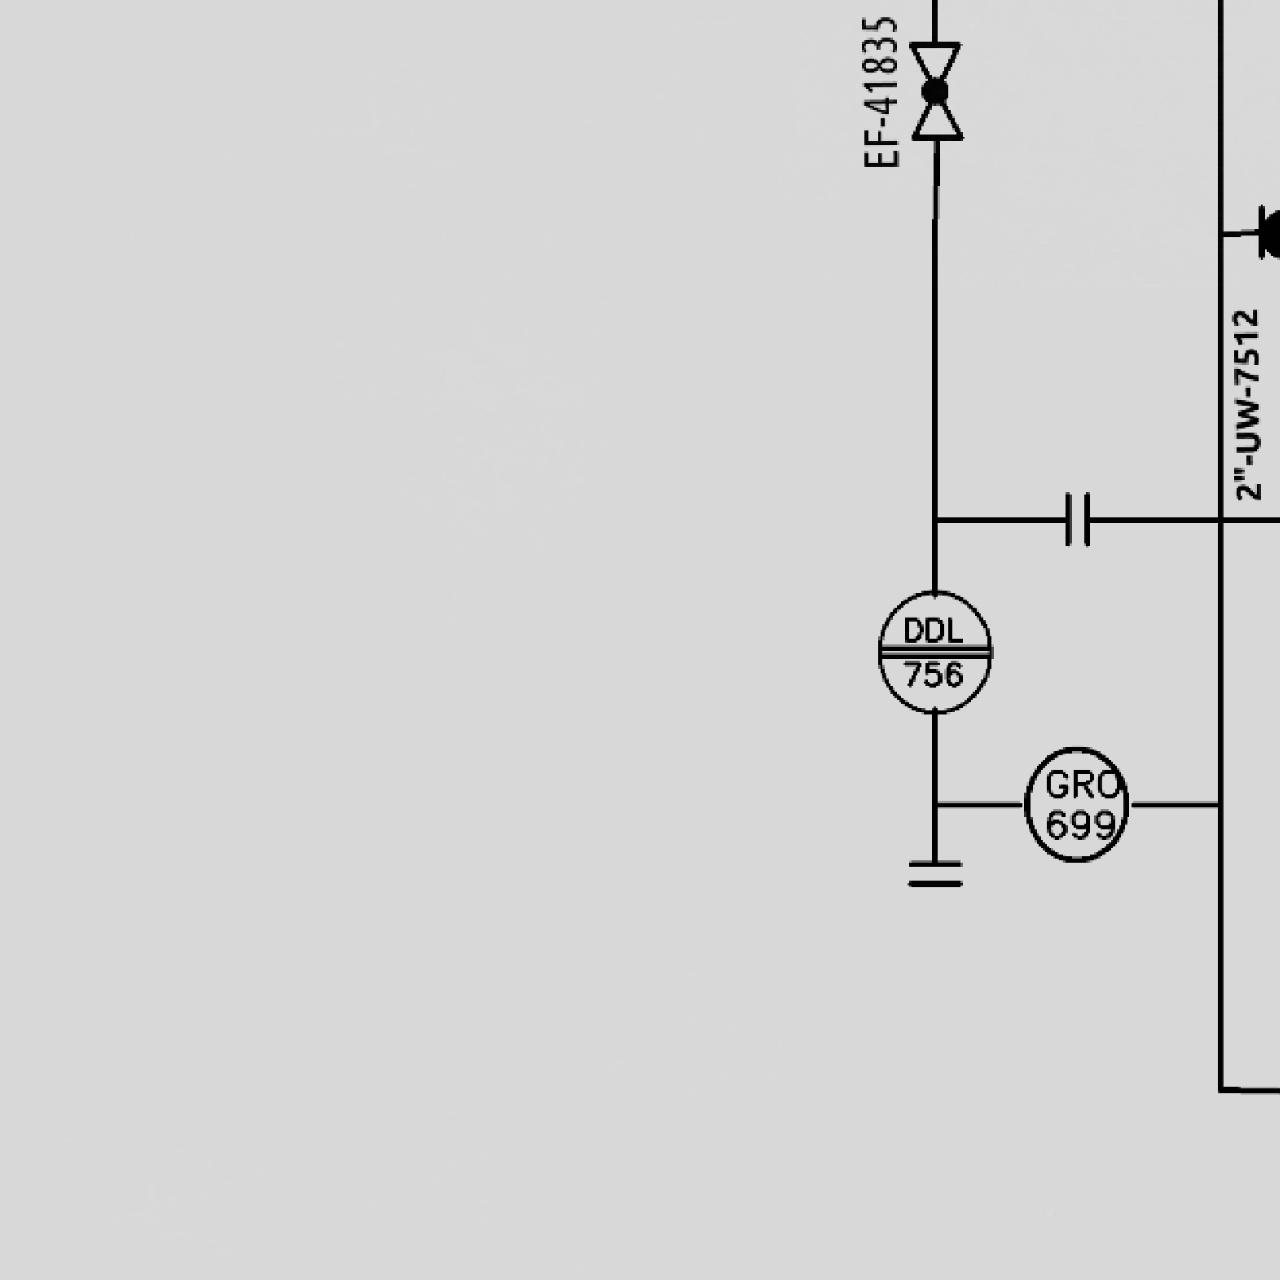Control-Panel: (864, 584, 998, 719)
